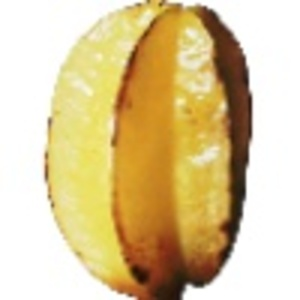carambola: (41, 1, 254, 300)
